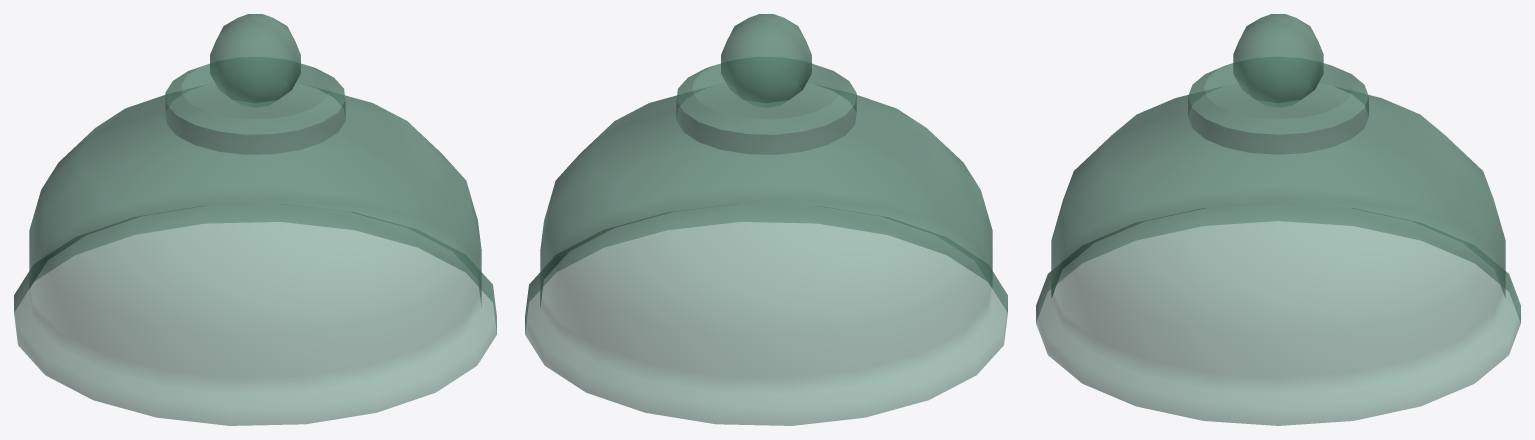
The model's file is cakeDishMaterialed 1.fbx.
The picture shows the model from 3 angles, left to right: view 1: azimuth 30°, elevation 25°; view 2: azimuth 150°, elevation 25°; view 3: azimuth 270°, elevation 25°; orthographic projection.
Visible parts, largest first — view 1: cakeDishLid; view 2: cakeDishLid; view 3: cakeDishLid.
Part boxes in pixels (bbox=[...]): cakeDishLid: bbox=[14, 14, 496, 425]; cakeDishLid: bbox=[525, 14, 1007, 425]; cakeDishLid: bbox=[1036, 14, 1520, 425].
Size of the model in its own units: 513 by 357 by 513.
